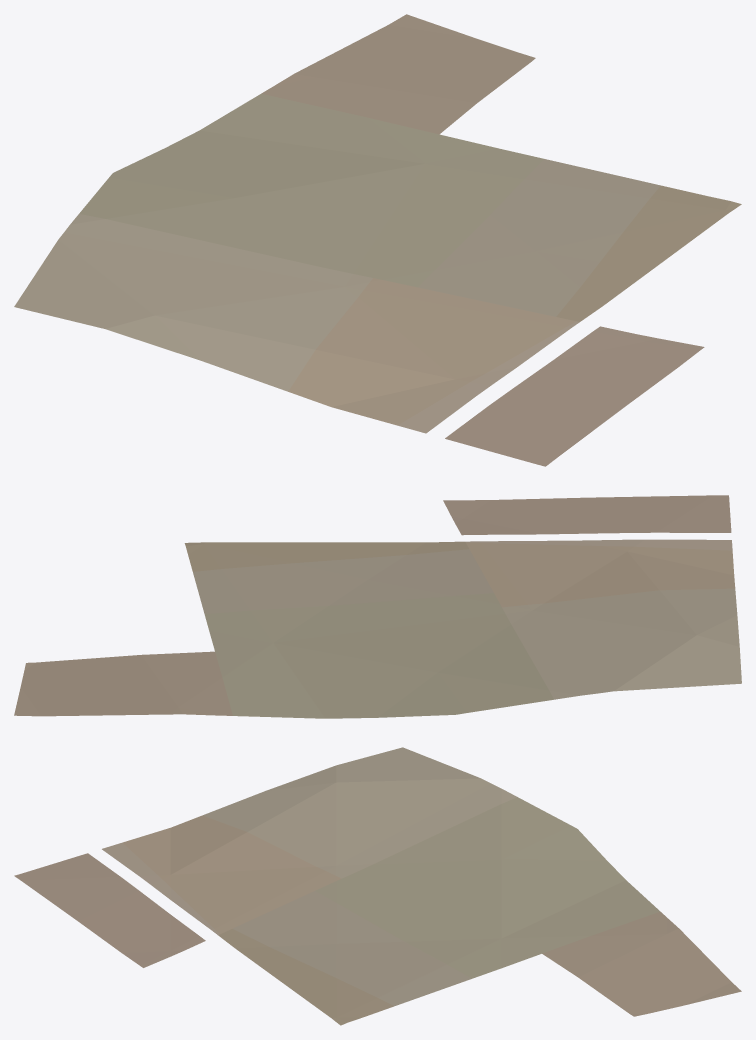
File: farm_1_4_soil.glb
The picture shows the model from 3 angles, top to bottom: view 1: azimuth 30°, elevation 25°; view 2: azimuth 150°, elevation 25°; view 3: azimuth 270°, elevation 25°; orthographic projection. The views are drawn at different scales.
Parts seen in each view (by area): view 1: geometry_0; view 2: geometry_0; view 3: geometry_0.
Boxes of the visible parts, box(x1,y1,x2,y2) form: geometry_0: box(14, 14, 741, 466); geometry_0: box(14, 495, 741, 718); geometry_0: box(14, 747, 741, 1025).
Bounding box in the file's own units: 289 × 18.56 × 352.
